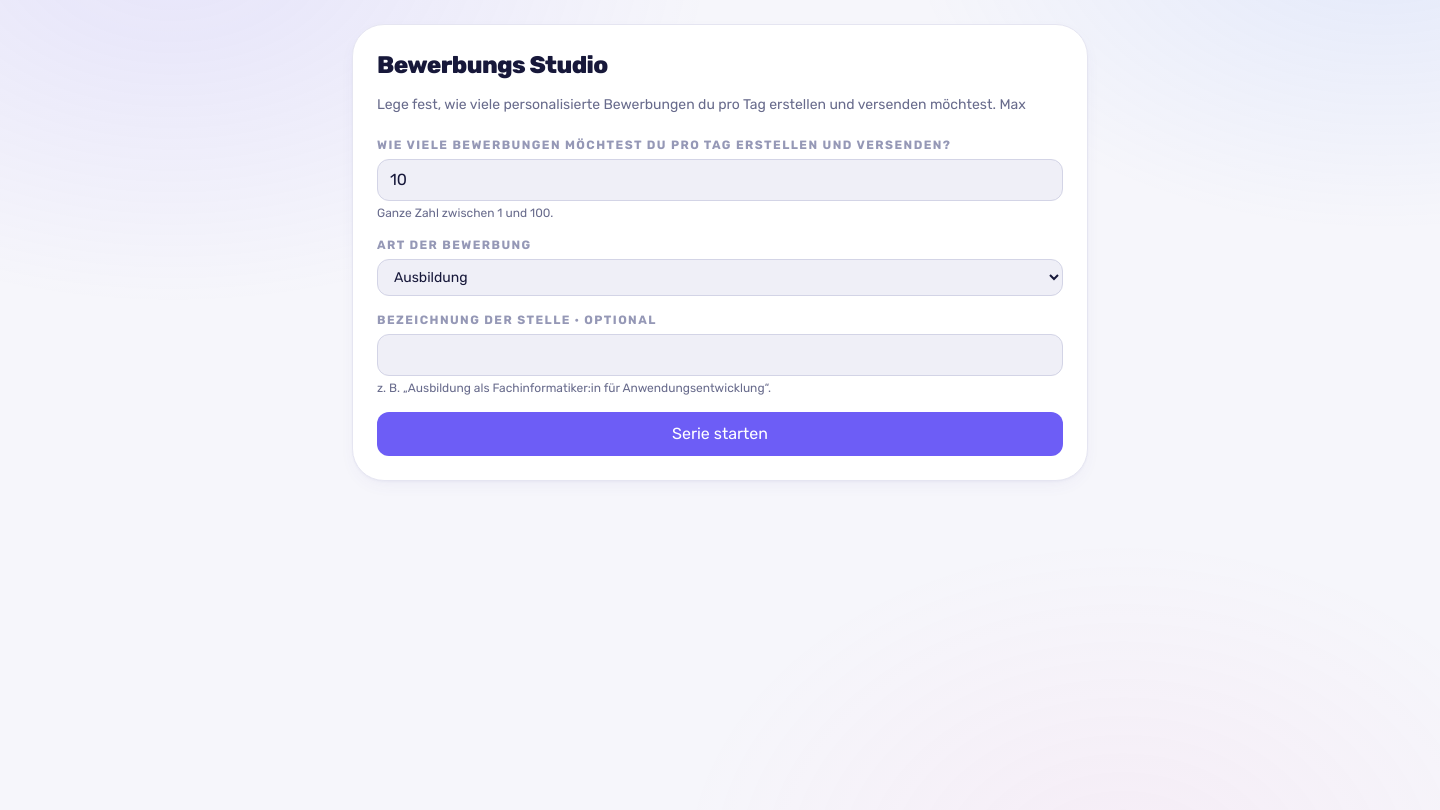
Test: submitting the form › a rejected create shows the actionable error and keeps the form (never a silent empty state)
Click the button "Serie starten".
click(720, 434)  # box [377,412,1063,456]
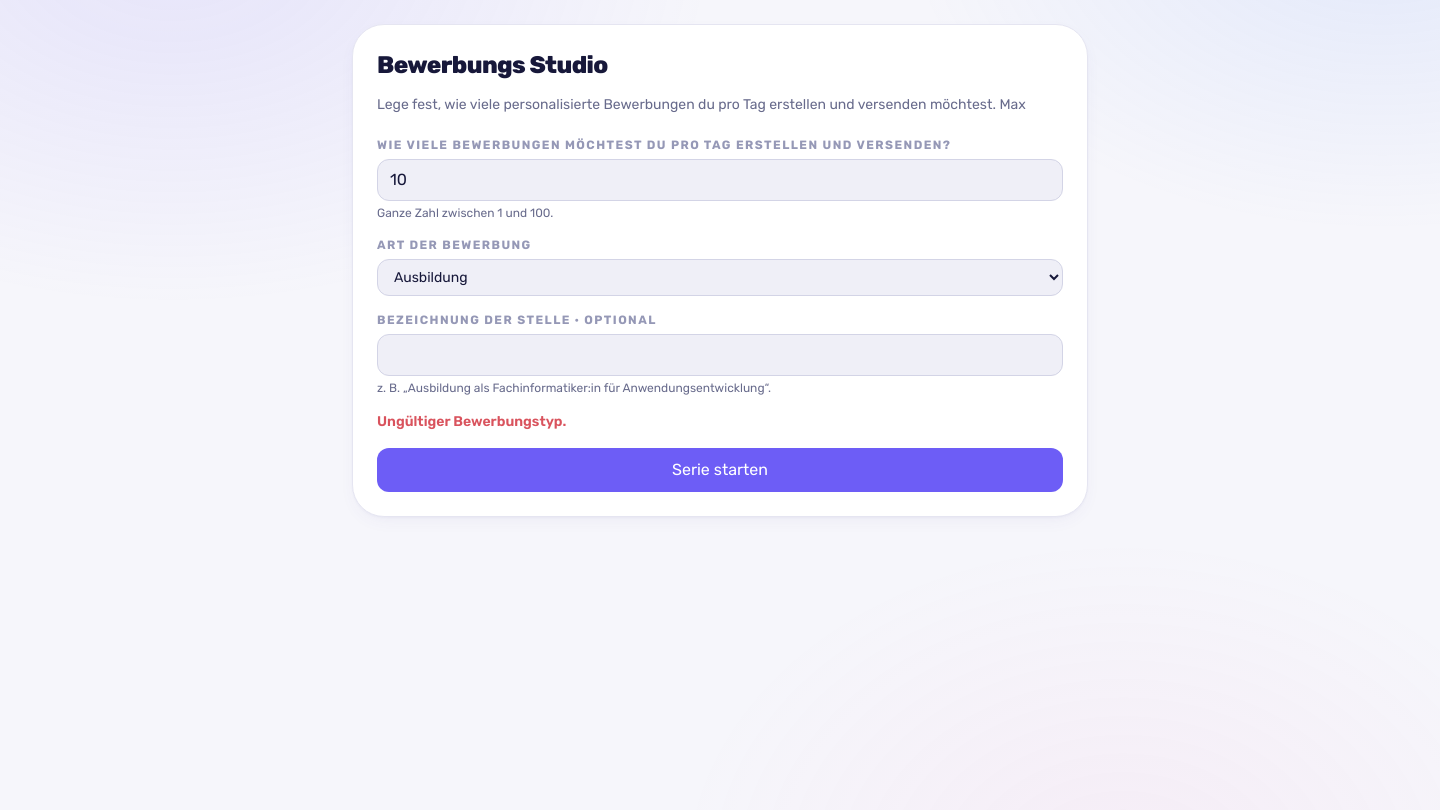
Check: the button "Serie starten" is shown, box [377,448,1063,492]
Check: the text "Ungültiger Bewerbungstyp." is shown, box [377,413,566,430]
